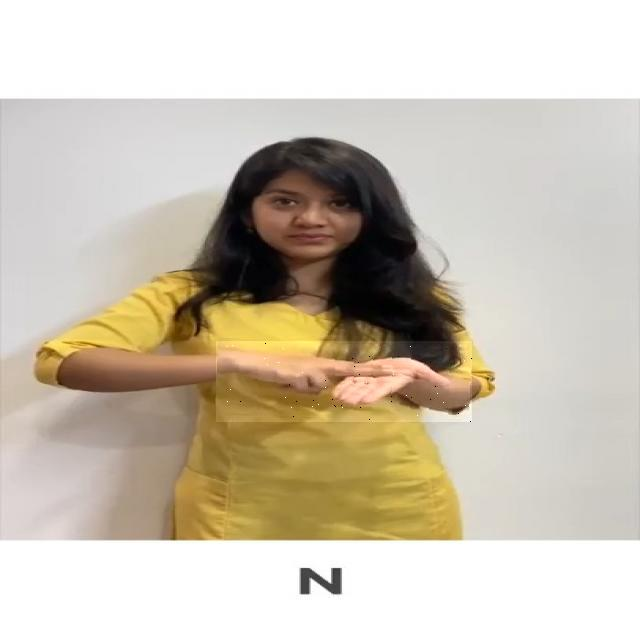N: (216, 341, 472, 422)
